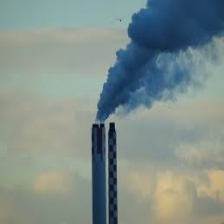smoke: (92, 1, 224, 120)
